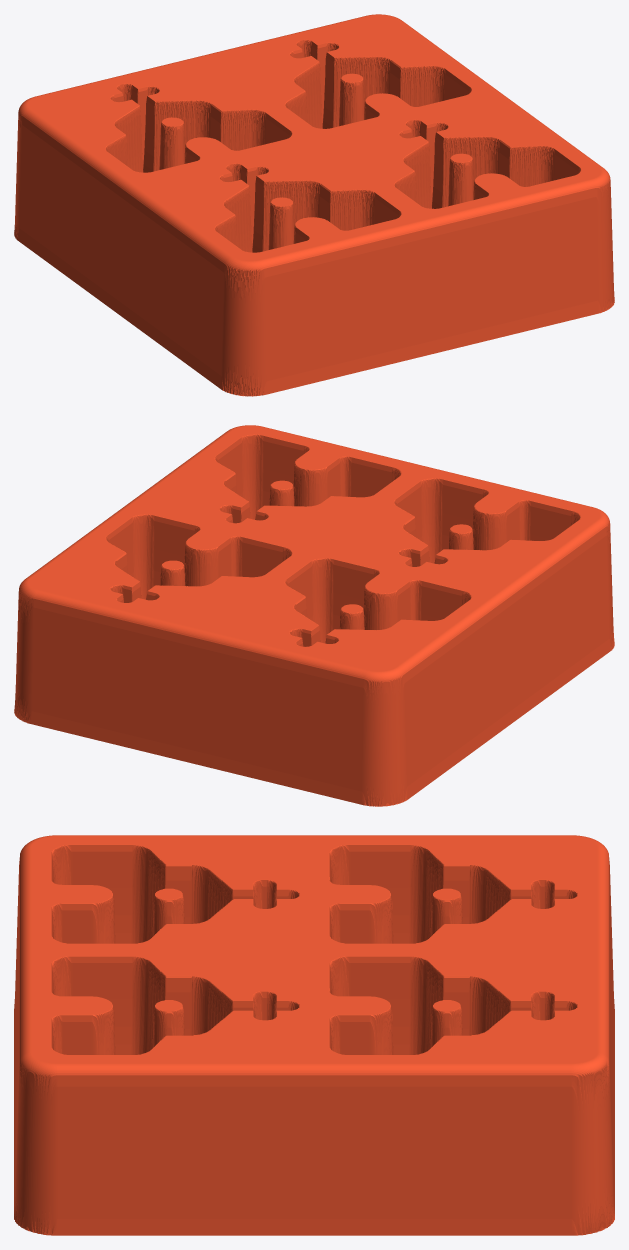
File: mold.glb
3 views of the same model, one above another, from view 1: azimuth 30°, elevation 25°; view 2: azimuth 150°, elevation 25°; view 3: azimuth 270°, elevation 25° (orthographic). The views are drawn at different scales.
Parts seen in each view (by area): view 1: geometry_0; view 2: geometry_0; view 3: geometry_0.
Part boxes in pixels (box(x1,y1,x2,y2)): geometry_0: box(14, 14, 614, 396); geometry_0: box(14, 425, 614, 806); geometry_0: box(14, 835, 614, 1235).
Bounding box in the file's own units: 0.1189 × 0.0378 × 0.1248.
